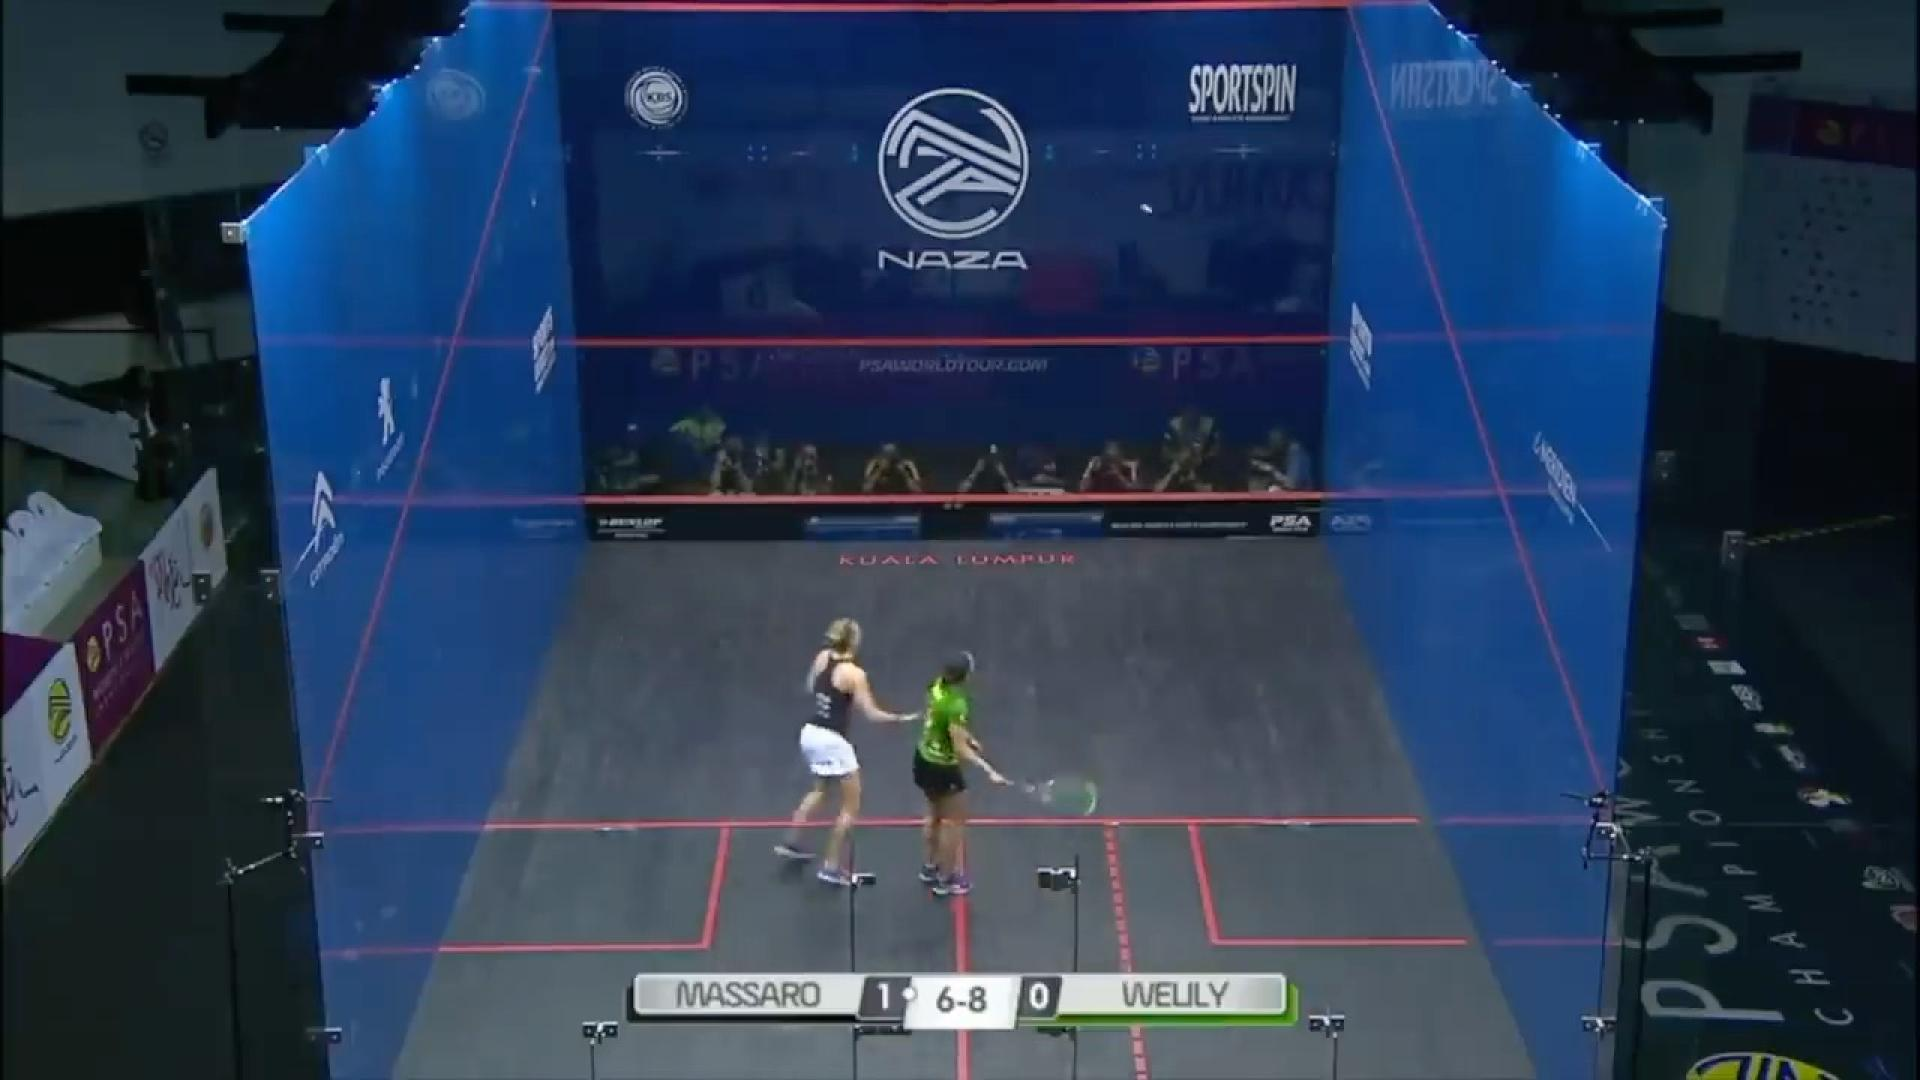Squash-Ball: (1133, 185, 1172, 233)
